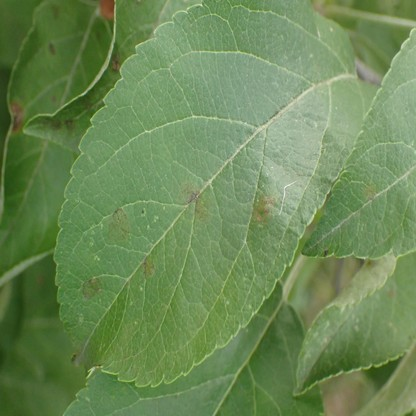frogeye_leaf_spot: (10, 103, 23, 134)
scab: (178, 184, 209, 225), (252, 187, 275, 228), (108, 208, 129, 241), (82, 279, 101, 299), (362, 182, 377, 203), (142, 257, 155, 279)
